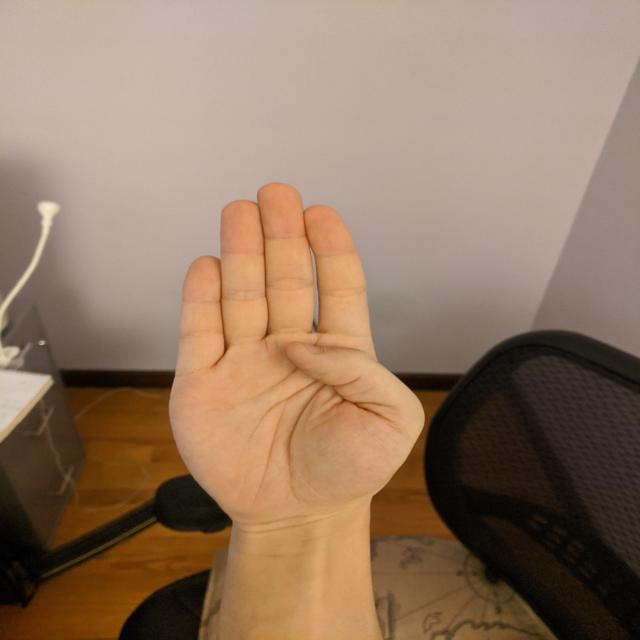B: (152, 176, 436, 544)
